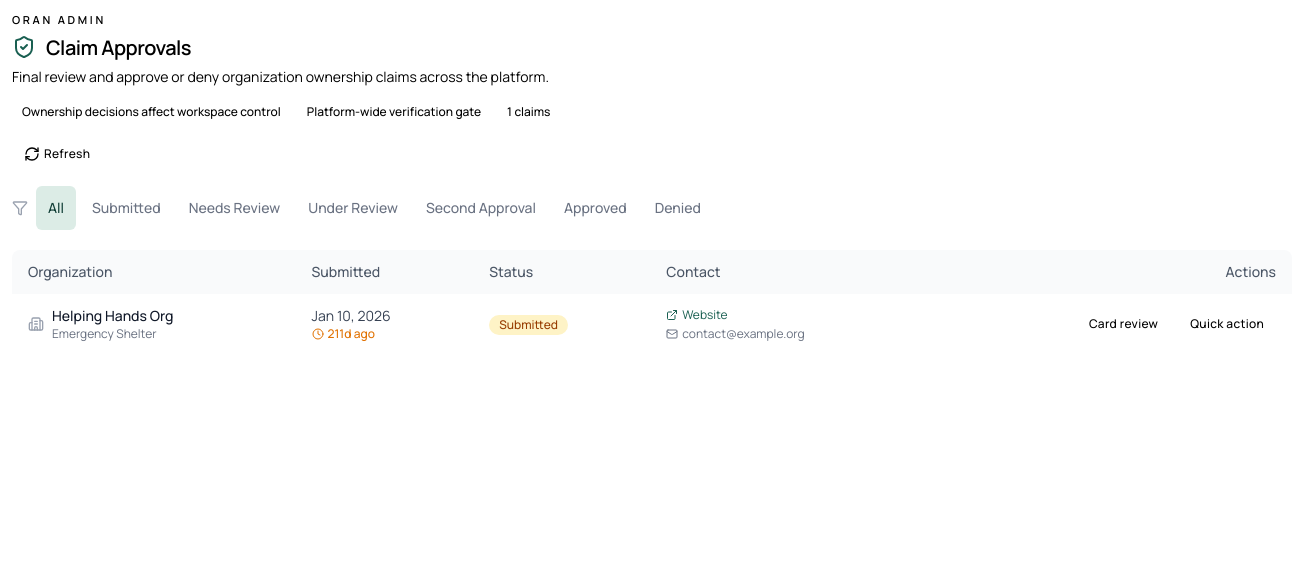
Test: oran admin approvals page › requires notes before deny and submits decision with refresh + toast
expect the text "Helping Hands Org" is shown: met, box [52,306,173,326]
Click the button "Quick action": (1227, 324) [1178,308,1276,340]
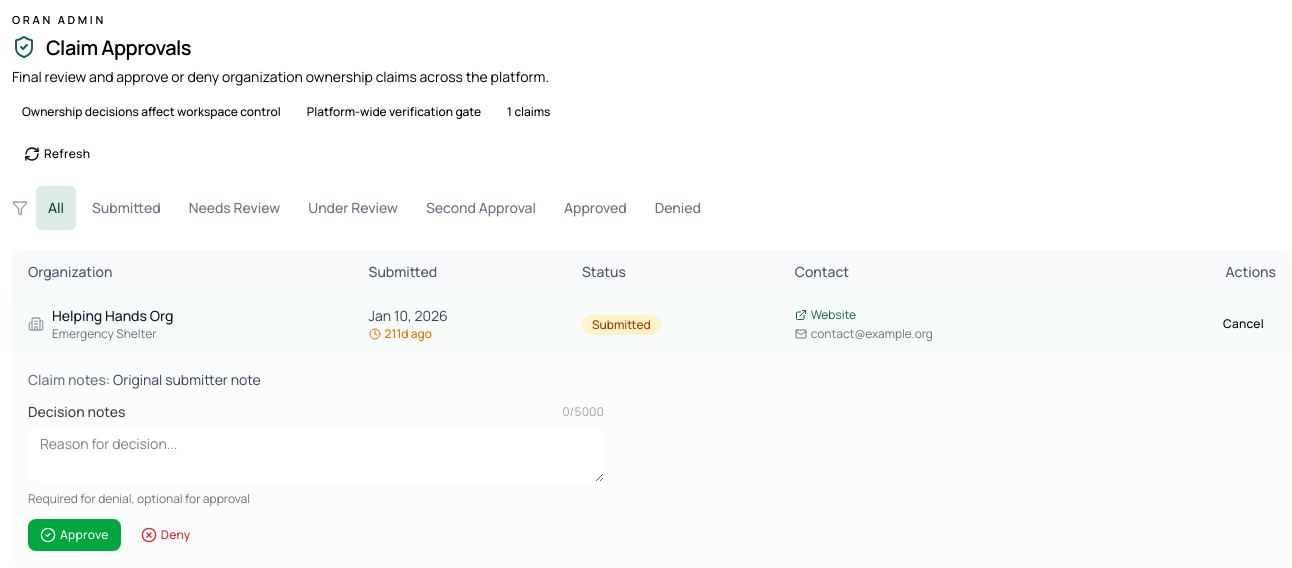
expect the button "Deny" is disabled: met, box [129,519,202,551]
In the text box labelled "Decision notes": (316, 454) [28,426,604,482], type "  duplicate claim  "
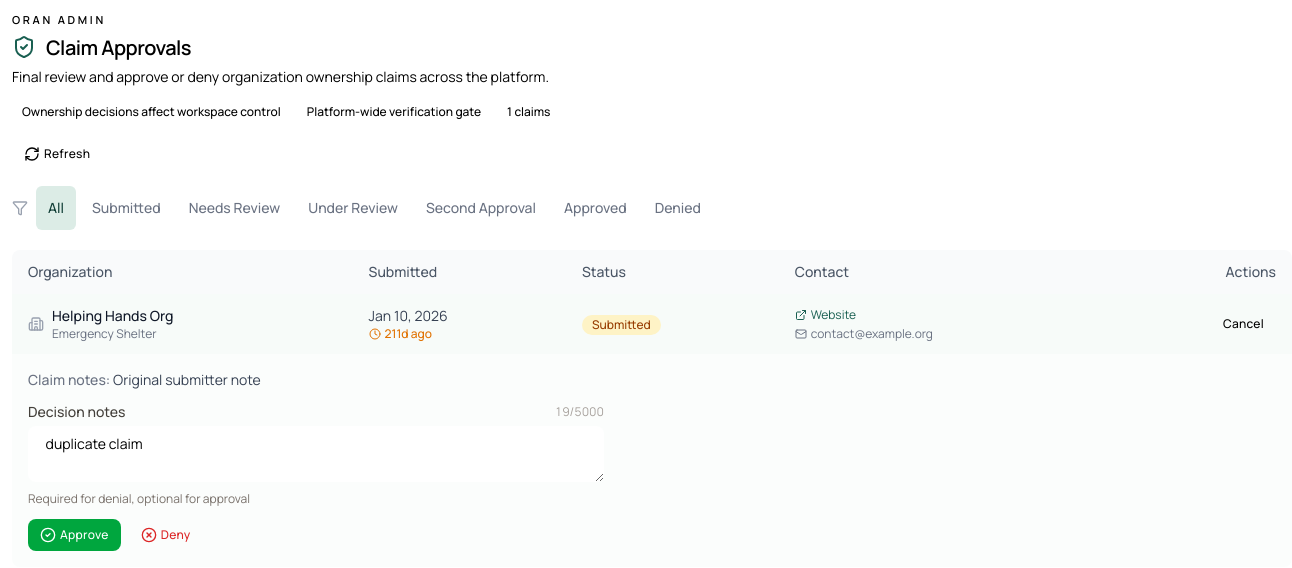
Click the button "Deny": (166, 535) [129,519,202,551]
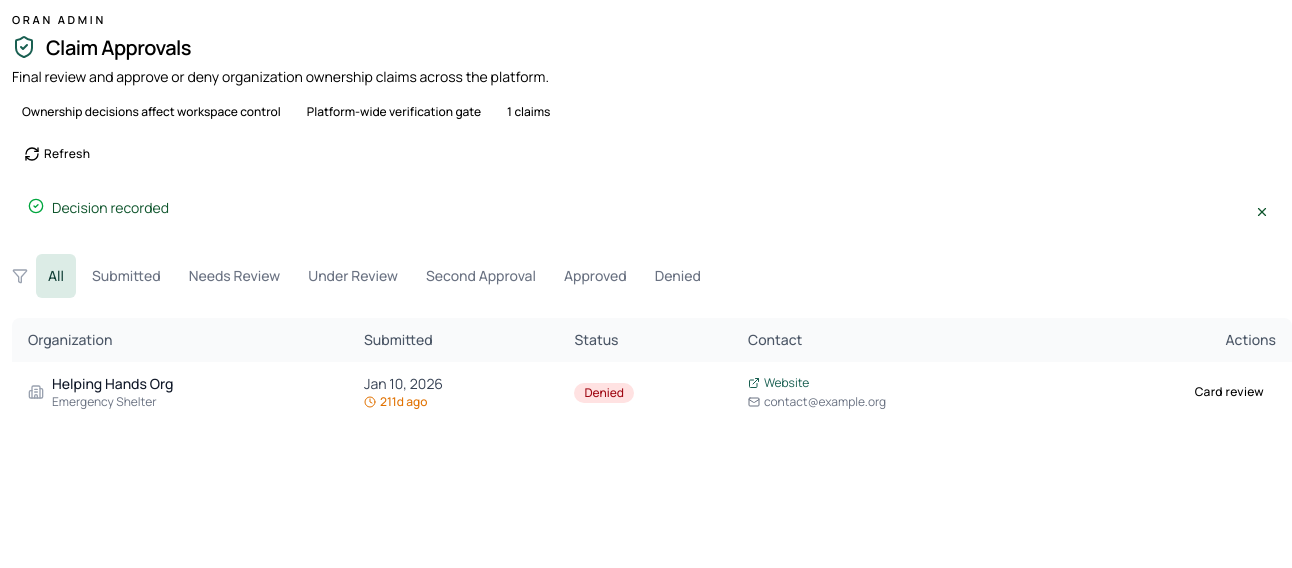
expect the message reads "Decision recorded": met, box [52,198,169,217]
